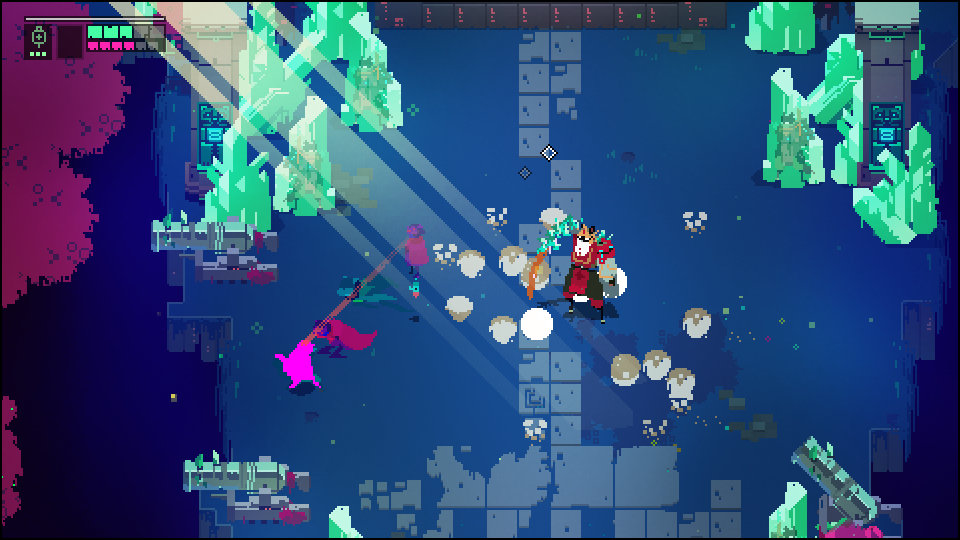hanged_man: (524, 215, 615, 321)
player: (276, 339, 321, 392)
